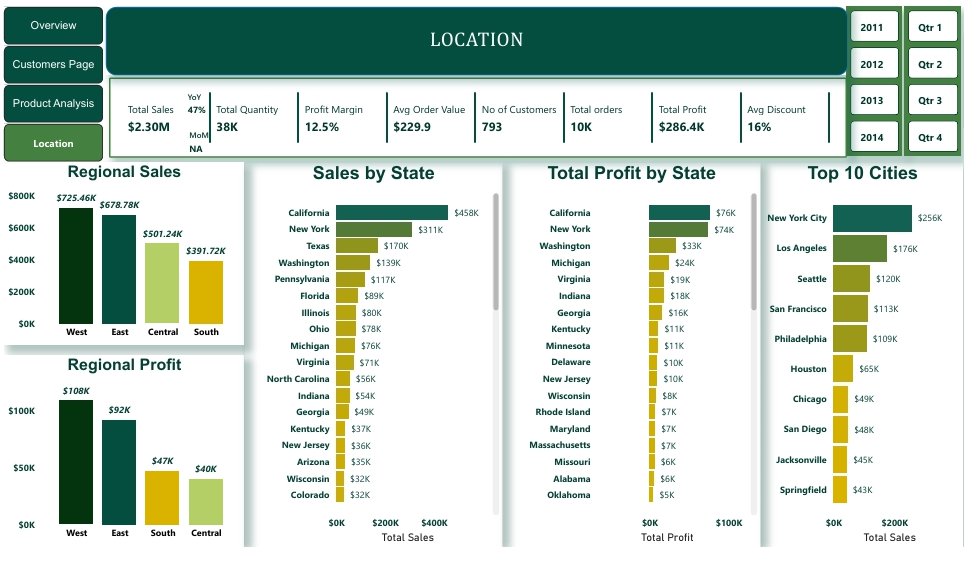

This screenshot's page, from the dashboard's own definition file:
{"tool":"powerbi","page":{"name":"Location","canvas":[1280,720],"ordinal":3},"visuals":[{"type":"group","id":"g1","title":"Group 3","box":[1124.4,0,153.1,200.3],"z":0},{"type":"cardVisual","fields":{"Data":["Superstore Sales.Total Sales","Superstore Sales.Total Quantity","Superstore Sales.Profit Margin","Superstore Sales.Avg Order Value","Count(Superstore Sales.Customer ID)","Superstore Sales.Total orders","Customer.Total Profit","Superstore Sales.Avg Discount"]},"box":[139.4,93.9,984.5,106.9],"z":0,"group":"g2"},{"type":"group","id":"g2","title":"Group 1","box":[135.7,0,989.3,200.8],"z":1000},{"type":"shape","box":[135.7,0,989.3,90.7],"z":1000,"group":"g2"},{"type":"advancedSlicerVisual","fields":{"Values":["DimDate.Order Date.Variation.Date Hierarchy.Year"]},"box":[1124.4,0,73.7,200.3],"z":2000,"group":"g1"},{"type":"group","id":"g3","title":"Group 1","box":[223,100.2,81.3,107.7],"z":2000},{"type":"cardVisual","fields":{"Data":["DimDate.YoY"]},"box":[223,100.2,81.3,56.9],"z":2000,"group":"g3"},{"type":"pageNavigator","box":[0,0,132.3,207.9],"z":3000},{"type":"advancedSlicerVisual","fields":{"Values":["DimDate.Order Date.Variation.Date Hierarchy.Quarter"]},"box":[1201.9,0,75.6,200.3],"z":3000,"group":"g1"},{"type":"cardVisual","fields":{"Data":["DimDate.MoM"]},"box":[225,151,79.3,56.9],"z":3000,"group":"g3"},{"type":"columnChart","title":"Regional Sales","fields":{"Y":["Superstore Sales.Total Sales"],"Category":["Location.Region"]},"box":[0,207.9,321.3,243.8],"z":4000},{"type":"columnChart","title":"Regional Profit","fields":{"Category":["Location.Region"],"Y":["Customer.Total Profit"]},"box":[0,464.9,321.3,255.1],"z":5000},{"type":"barChart","title":"Sales by State","fields":{"Y":["Superstore Sales.Total Sales"],"Category":["Location.State"]},"box":[321.3,207.9,343.9,512.1],"z":6000},{"type":"barChart","fields":{"Category":["Location.State"],"Y":["Customer.Total Profit"]},"box":[665.2,207.9,343.9,512.1],"z":7000},{"type":"barChart","title":"Top 10 Cities","fields":{"Category":["Location.City"],"Y":["Superstore Sales.Total Sales"]},"box":[1011,207.9,268.3,512.1],"z":8000}]}

Visuals, with their boxes in screenshot pixels (x1, y1, x2, y2), scaled from the page's 1280x720 canvas onto the 973x562 screenshot:
"Group 3" group: BBox(855, 0, 971, 156)
cardVisual - Superstore Sales.Total Sales x Superstore Sales.Total Quantity: BBox(106, 73, 854, 157)
"Group 1" group: BBox(103, 0, 855, 157)
shape: BBox(103, 0, 855, 71)
advancedSlicerVisual - DimDate.Order Date.Variation.Date Hierarchy.Year: BBox(855, 0, 911, 156)
"Group 1" group: BBox(170, 78, 231, 162)
cardVisual - DimDate.YoY: BBox(170, 78, 231, 123)
pageNavigator: BBox(0, 0, 101, 162)
advancedSlicerVisual - DimDate.Order Date.Variation.Date Hierarchy.Quarter: BBox(914, 0, 971, 156)
cardVisual - DimDate.MoM: BBox(171, 118, 231, 162)
"Regional Sales" columnChart: BBox(0, 162, 244, 353)
"Regional Profit" columnChart: BBox(0, 363, 244, 561)
"Sales by State" barChart: BBox(244, 162, 506, 561)
barChart - Location.State x Customer.Total Profit: BBox(506, 162, 767, 561)
"Top 10 Cities" barChart: BBox(769, 162, 972, 561)
